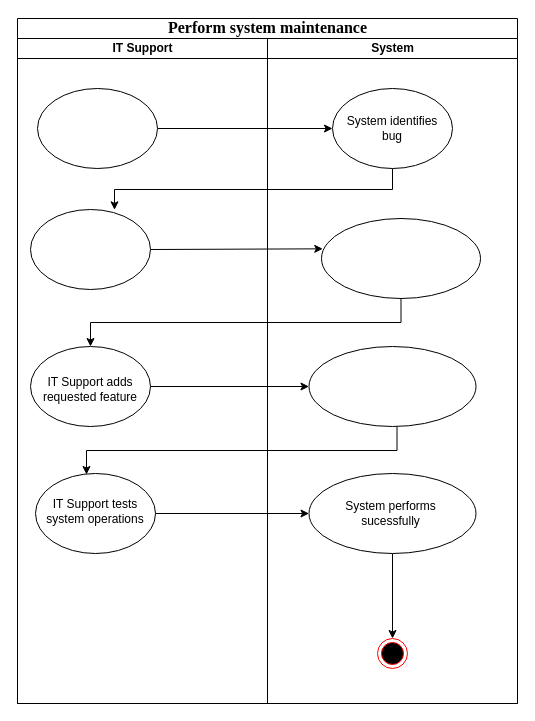
Some shapes in this 535 by 721 pixel diagram are drawn without their labels. Each missing label, with the centre of its shape:
"IT Support is called" belongs at pixel 97 128.
"IT Support modifies system code to resolve issue" belongs at pixel 90 249.
"System updates and bug is resolved" belongs at pixel 400 258.
"System updates with feature" belongs at pixel 392 386.
